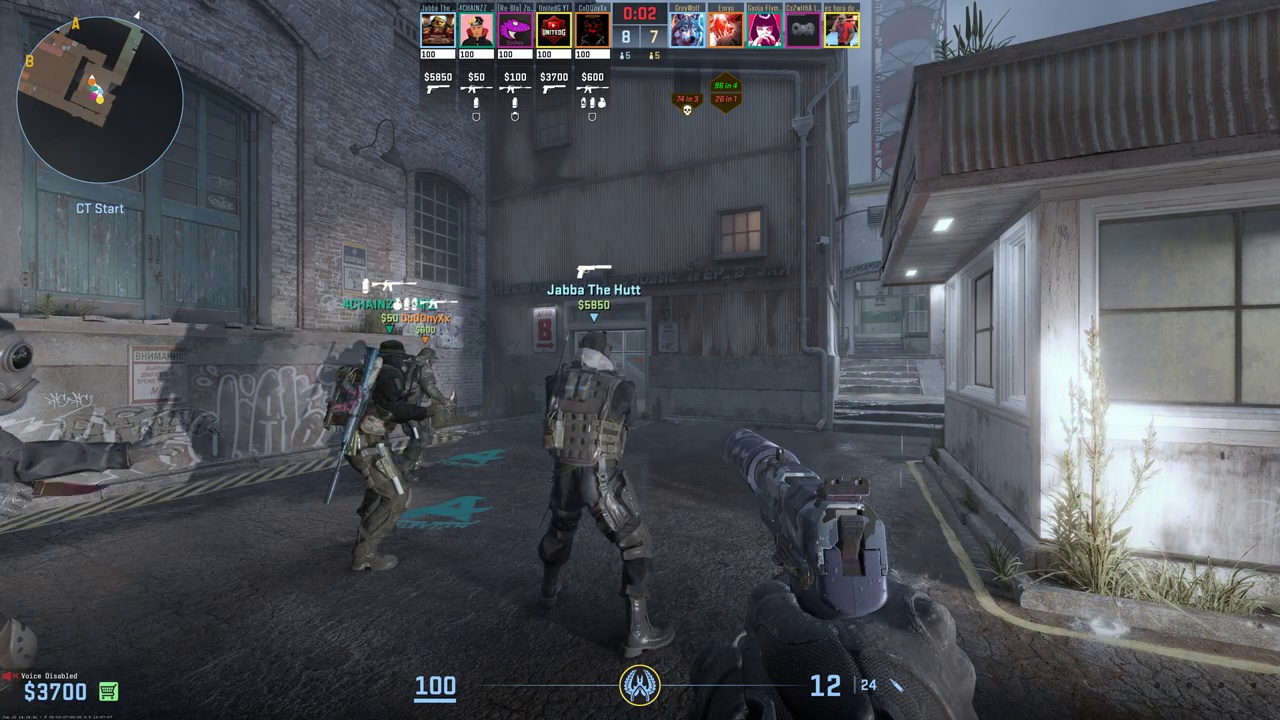CT: (539, 330, 646, 612), (331, 340, 411, 567), (0, 320, 38, 680), (406, 348, 436, 479)
